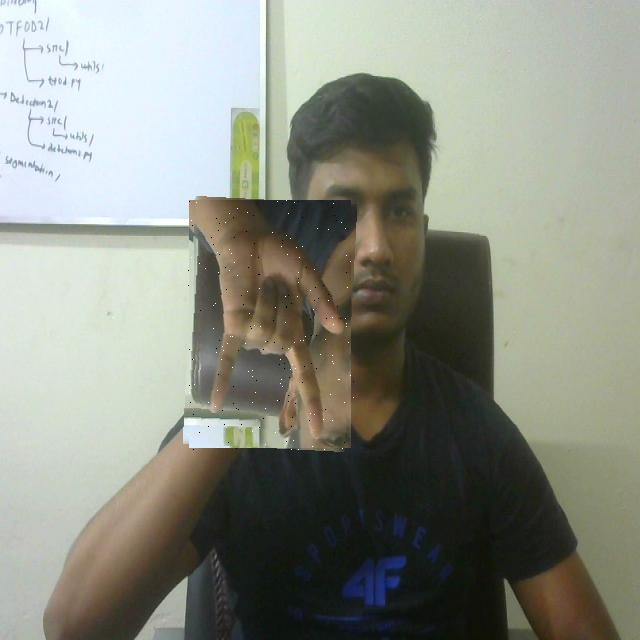IloveYou: (186, 198, 354, 450)
